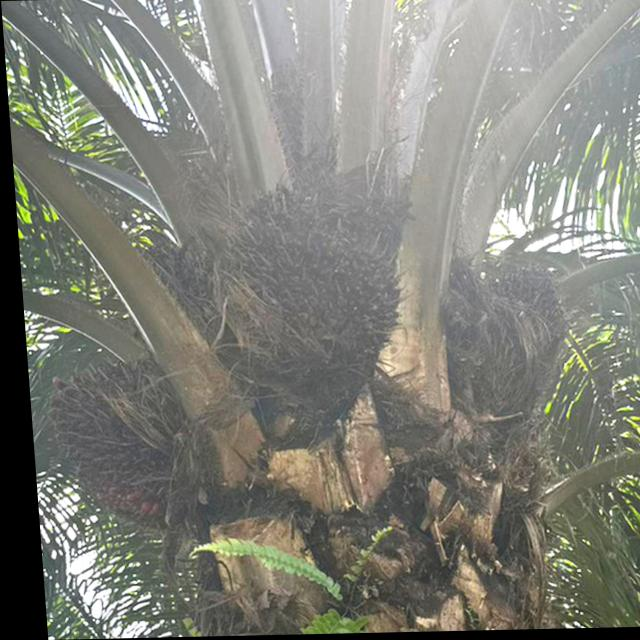ripe: (184, 165, 422, 415)
